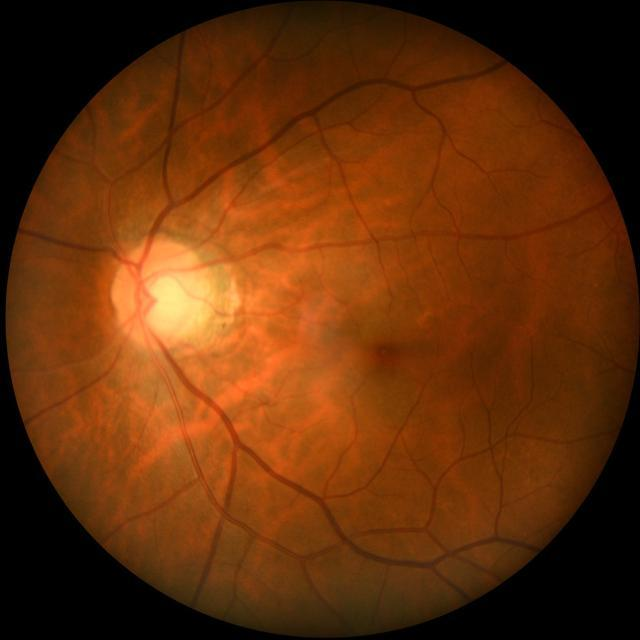OC: (139, 274, 198, 334)
OD: (111, 240, 205, 346)
